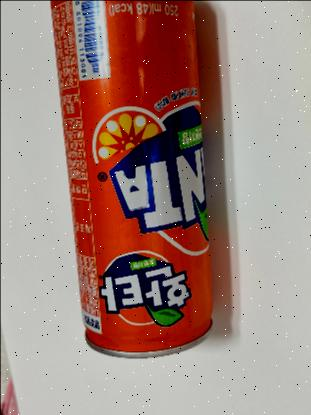Can: (45, 0, 216, 361)
